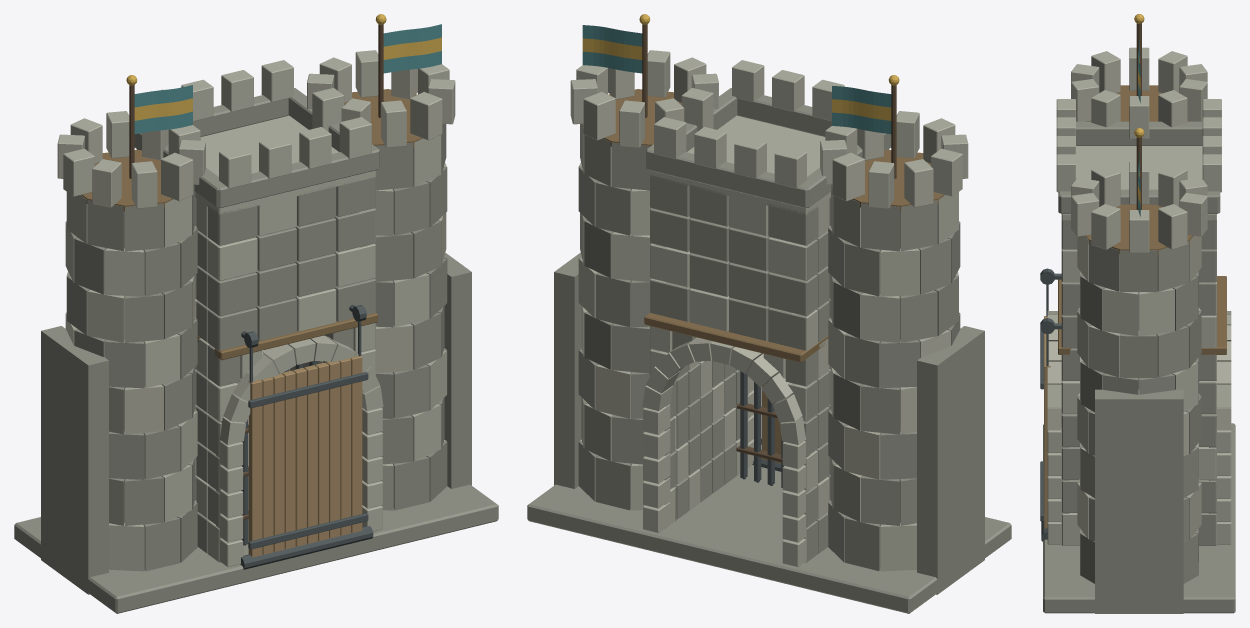
File: castle-gate.glb
The picture shows the model from 3 angles, left to right: view 1: azimuth 30°, elevation 25°; view 2: azimuth 150°, elevation 25°; view 3: azimuth 270°, elevation 25°; orthographic projection. The views are drawn at different scales.
Parts seen in each view (by area): view 1: WallJoins_mesh, Drawbridge_mesh, Battlements_mesh, Foundation_mesh, TowerCrown_mesh, GateArches_mesh, TowerCrown.001_mesh, WallCourse.007_mesh, WallCourse.008_mesh, TowerCourse.006_mesh, TowerCourse.005_mesh, WallCourse.006_mesh (+25 smaller); view 2: WallJoins_mesh, Foundation_mesh, Battlements_mesh, GateArches_mesh, TowerCrown_mesh, TowerCrown.001_mesh, WallCourse.007_mesh, WallCourse.008_mesh, WallCourse.006_mesh, GateDeck_mesh, TowerCourse.006_mesh, TowerCourse.005_mesh (+25 smaller); view 3: WallJoins_mesh, TowerCrown.001_mesh, TowerCrown_mesh, Battlements_mesh, Foundation_mesh, GateArches_mesh, TowerCourse.013_mesh, TowerCourse.014_mesh, TowerCourse.015_mesh, GateDeck_mesh, TowerCourse.012_mesh, TowerCourse.011_mesh (+17 smaller).
Boxes of the visible parts, x1,y1,x2,y2 form: WallJoins_mesh: (41, 253, 471, 594); Drawbridge_mesh: (240, 356, 373, 569); Battlements_mesh: (134, 60, 379, 208); Foundation_mesh: (14, 466, 498, 613); TowerCrown_mesh: (57, 111, 205, 211); GateArches_mesh: (216, 335, 383, 566); TowerCrown.001_mesh: (307, 50, 455, 147); WallCourse.007_mesh: (195, 243, 375, 316); WallCourse.008_mesh: (197, 208, 375, 280); TowerCourse.006_mesh: (65, 221, 197, 296); TowerCourse.005_mesh: (66, 271, 195, 342); WallCourse.006_mesh: (195, 278, 375, 350); WallJoins_mesh: (554, 252, 984, 594); Foundation_mesh: (527, 465, 1011, 613); Battlements_mesh: (646, 60, 891, 208); GateArches_mesh: (642, 337, 809, 566); TowerCrown_mesh: (820, 111, 968, 211); TowerCrown.001_mesh: (570, 50, 718, 147); WallCourse.007_mesh: (650, 243, 830, 316); WallCourse.008_mesh: (650, 208, 828, 280); WallCourse.006_mesh: (650, 278, 830, 350); GateDeck_mesh: (644, 115, 889, 362); TowerCourse.006_mesh: (828, 221, 960, 296); TowerCourse.005_mesh: (830, 272, 958, 342); WallJoins_mesh: (1095, 389, 1183, 613); TowerCrown.001_mesh: (1071, 161, 1207, 254); TowerCrown_mesh: (1071, 47, 1207, 138); Battlements_mesh: (1056, 99, 1221, 213); Foundation_mesh: (1043, 423, 1235, 613); GateArches_mesh: (1047, 311, 1231, 544); TowerCourse.013_mesh: (1077, 292, 1201, 377); TowerCourse.014_mesh: (1080, 271, 1198, 336); TowerCourse.015_mesh: (1077, 236, 1201, 292); GateDeck_mesh: (1058, 146, 1226, 354); TowerCourse.012_mesh: (1080, 357, 1198, 412); TowerCourse.011_mesh: (1077, 378, 1201, 455).
Bounding box in the file's own units: 5.6 × 6.78 × 2.64.
